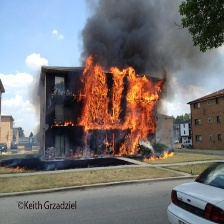fire: (58, 59, 175, 163)
smoke: (74, 1, 224, 63)
